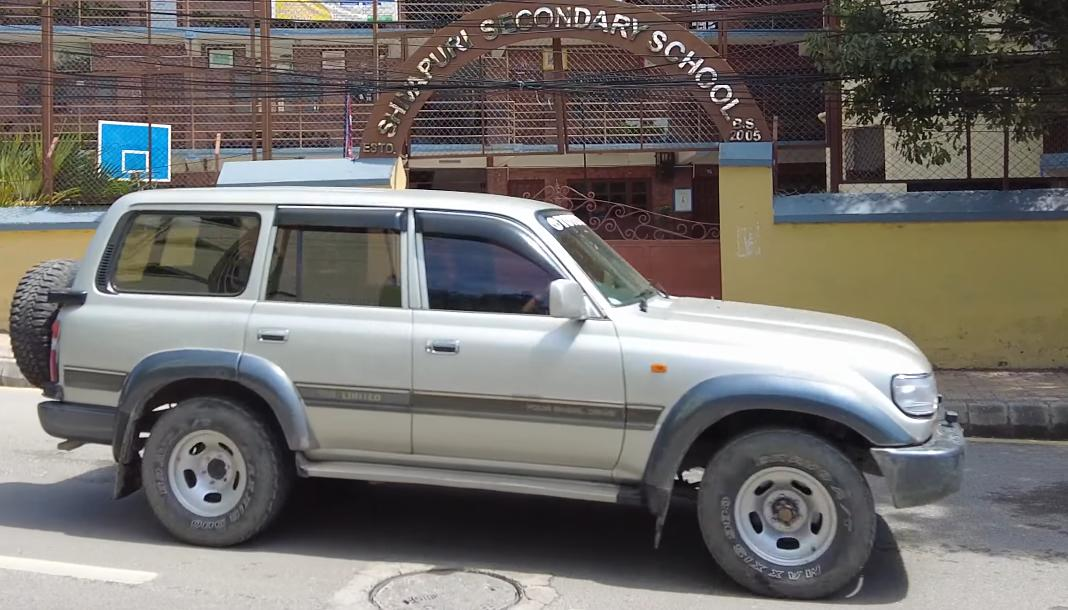SUV: (12, 166, 973, 599)
